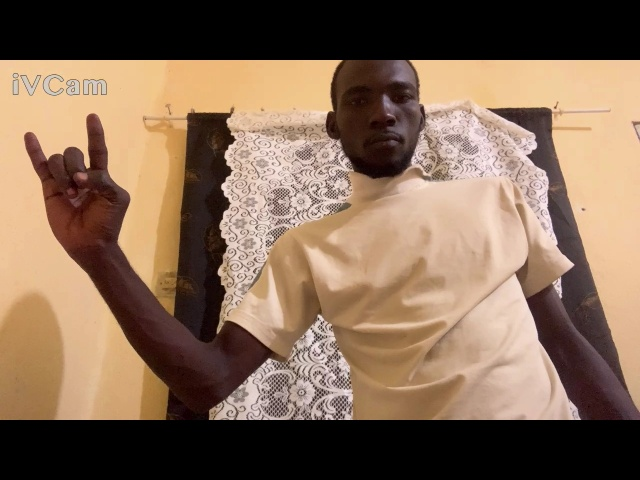je t'aime: (15, 109, 139, 260)
